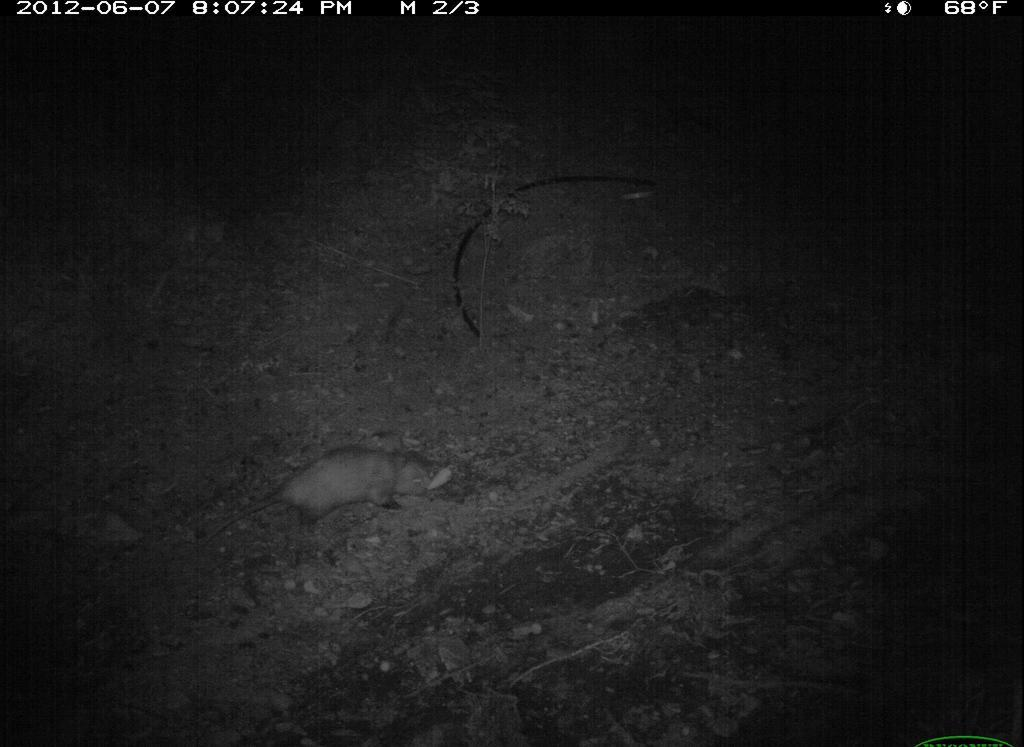opossum: (194, 437, 455, 568)
